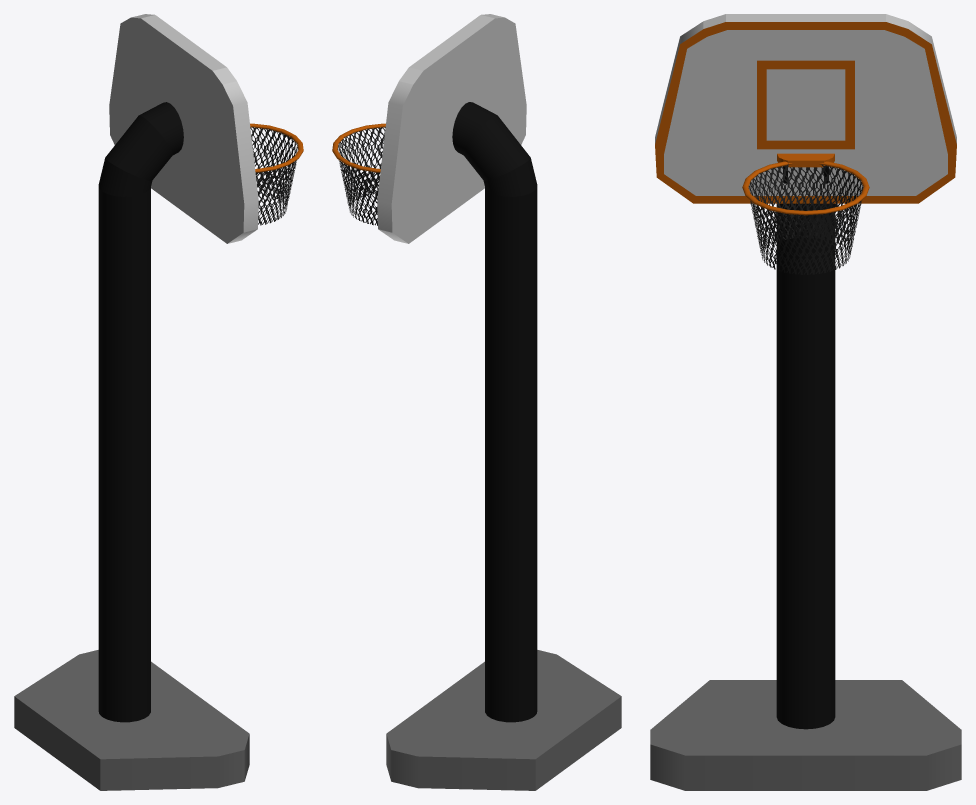
File: Full Hoop.fbx
3 renders of one model, left to right at view 1: azimuth 30°, elevation 25°; view 2: azimuth 150°, elevation 25°; view 3: azimuth 270°, elevation 25°, orthographic. The views are drawn at different scales.
Parts seen in each view (by area): view 1: pTorus2, pCube1, pCube2, pPipe1, pTorus3; view 2: pTorus2, pCube1, pCube2, pPipe1, pTorus3; view 3: pCube2, pTorus2, pCube1, pPipe1, pTorus3, pCube3.
Part boxes in pixels (bbox=[...]): pTorus2: bbox=[98, 102, 183, 722]; pCube1: bbox=[14, 650, 249, 790]; pCube2: bbox=[109, 14, 258, 243]; pPipe1: bbox=[250, 126, 297, 225]; pTorus3: bbox=[250, 123, 303, 172]; pTorus2: bbox=[452, 102, 537, 722]; pCube1: bbox=[386, 650, 621, 790]; pCube2: bbox=[377, 14, 526, 243]; pPipe1: bbox=[337, 127, 385, 225]; pTorus3: bbox=[332, 123, 385, 172]; pCube2: bbox=[655, 14, 956, 203]; pTorus2: bbox=[776, 203, 835, 729]; pCube1: bbox=[650, 680, 961, 790]; pPipe1: bbox=[748, 163, 863, 274]; pTorus3: bbox=[742, 161, 869, 215]; pCube3: bbox=[777, 153, 834, 167].
Bounding box in the file's own units: 158 × 432 × 159.
5 materials, 1 textured.
